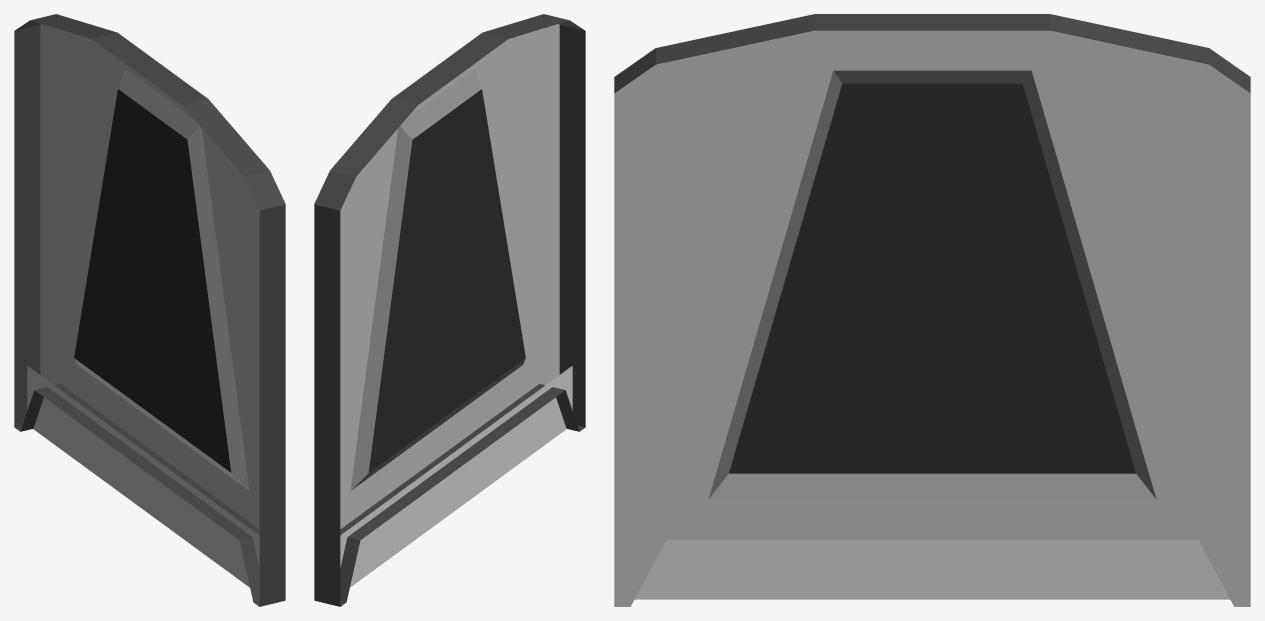
File: BarierLowGround.fbx
3 views of the same model, side by side, from view 1: azimuth 30°, elevation 25°; view 2: azimuth 150°, elevation 25°; view 3: azimuth 270°, elevation 25° (orthographic). The views are drawn at different scales.
Parts seen in each view (by area): view 1: Cube, Plane; view 2: Cube, Plane; view 3: Cube, Plane.
Part boxes in pixels (<box>): Cube: <box>14,14,285,606</box>; Plane: <box>27,366,259,587</box>; Cube: <box>314,14,585,606</box>; Plane: <box>340,366,572,587</box>; Cube: <box>614,14,1250,606</box>; Plane: <box>635,539,1229,599</box>.
Bounding box in the file's own units: 36.98 × 601 × 600.
1 material, 1 textured.
